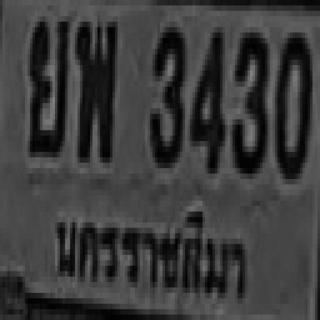A30: (75, 16, 115, 157)
A34: (28, 11, 68, 152)
N00: (274, 27, 309, 174)
N03: (231, 27, 266, 168), (148, 22, 182, 163)
N04: (190, 22, 222, 168)
P30: (52, 192, 246, 306)
